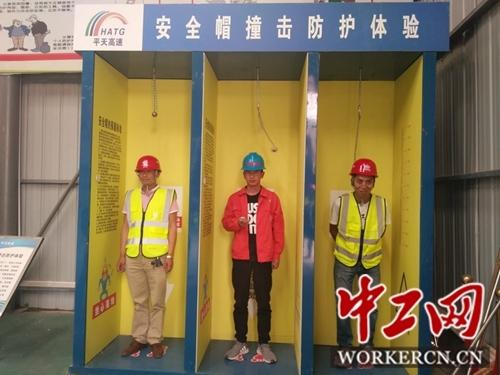helmet: (349, 158, 380, 178), (242, 152, 267, 173), (135, 155, 161, 173)
wear: (225, 190, 279, 261), (127, 187, 174, 259), (337, 196, 387, 258)
